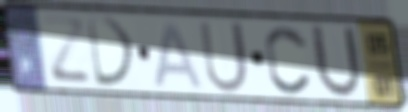A: (152, 19, 207, 92)
C: (263, 23, 314, 97)
D: (83, 13, 139, 89)
U: (308, 21, 366, 102), (197, 19, 252, 97)
Z: (39, 13, 94, 87)
